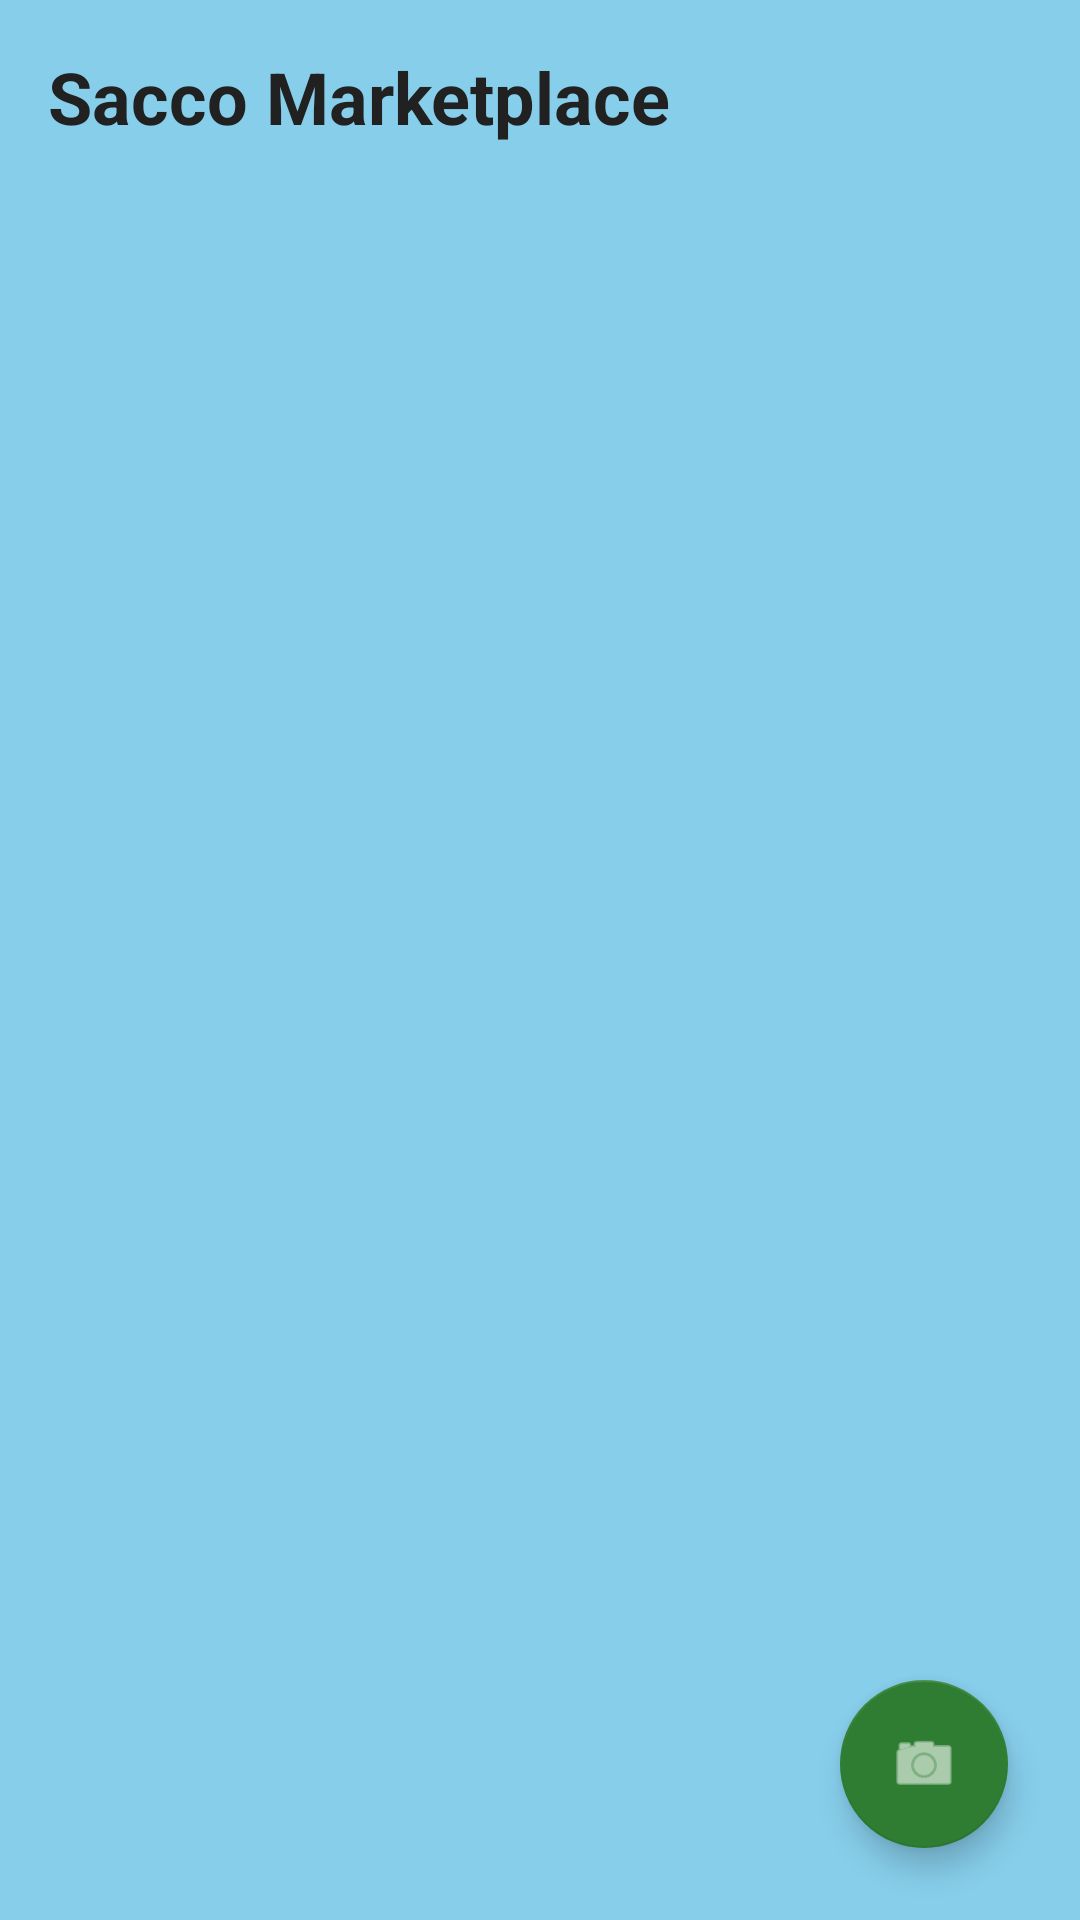

Where icons sit on this 1080w x 1920h app screen, as (x1, y1, x2, y2):
camera: (840, 1680, 1008, 1848)
